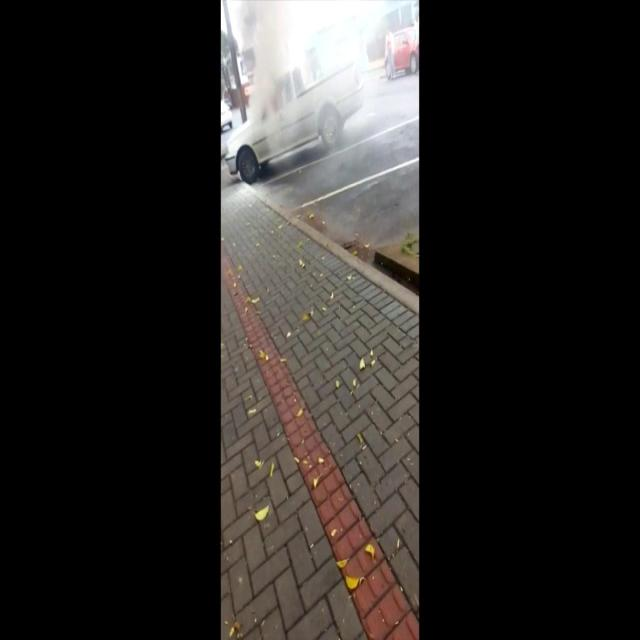Smoke: (237, 2, 336, 178)
